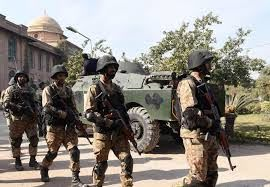gun: (196, 82, 235, 170), (97, 92, 143, 154), (53, 89, 93, 145), (11, 85, 40, 123)
uniform: (91, 79, 138, 174), (177, 71, 220, 174), (42, 81, 78, 175), (6, 85, 40, 166)
